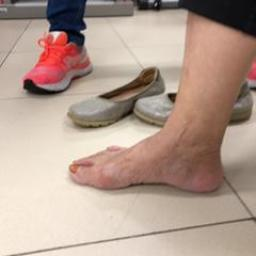Medial View -Right Foot-: (54, 101, 240, 204)
